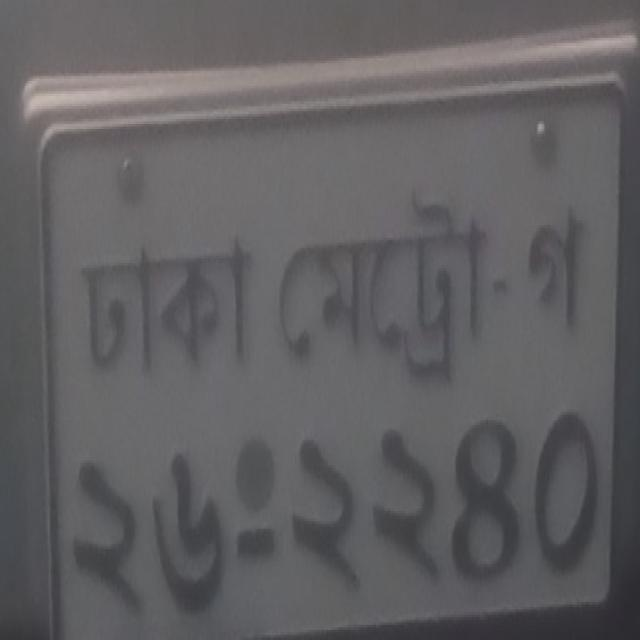numberplate: (15, 28, 634, 636)
